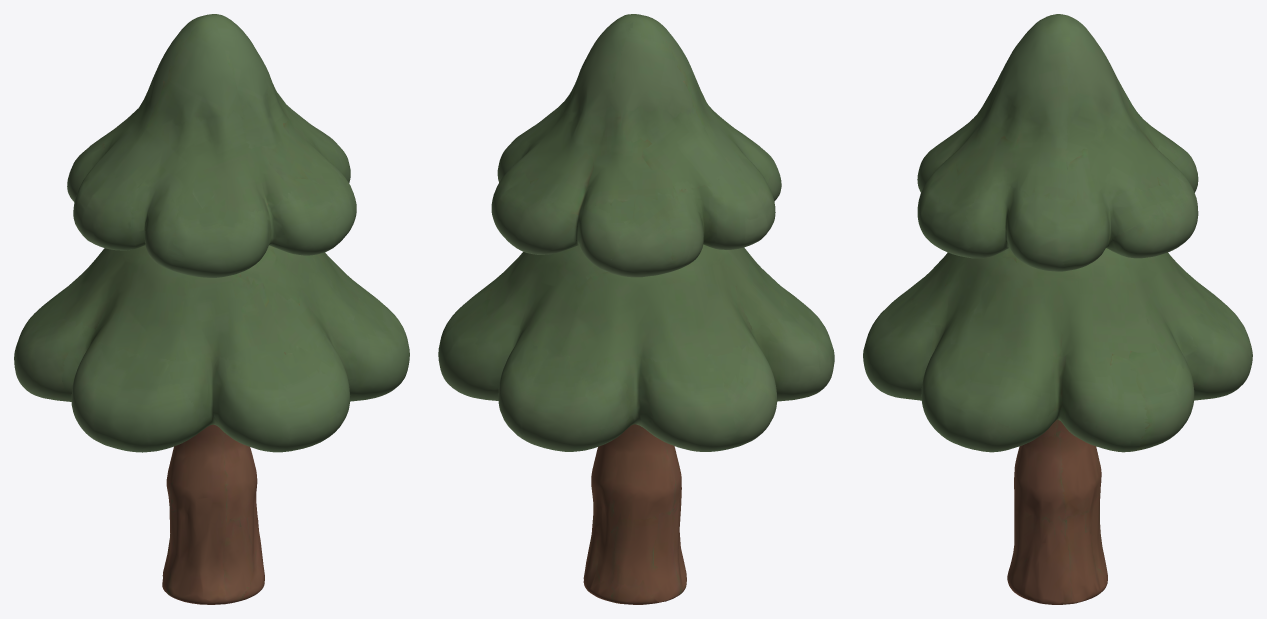
File: pine-2.glb
3 renders of one model, left to right at view 1: azimuth 30°, elevation 25°; view 2: azimuth 150°, elevation 25°; view 3: azimuth 270°, elevation 25°, orthographic.
Size of the model in its own units: 1.13 by 1.9 by 1.19.
Materials: 1 (1 with a texture image).
